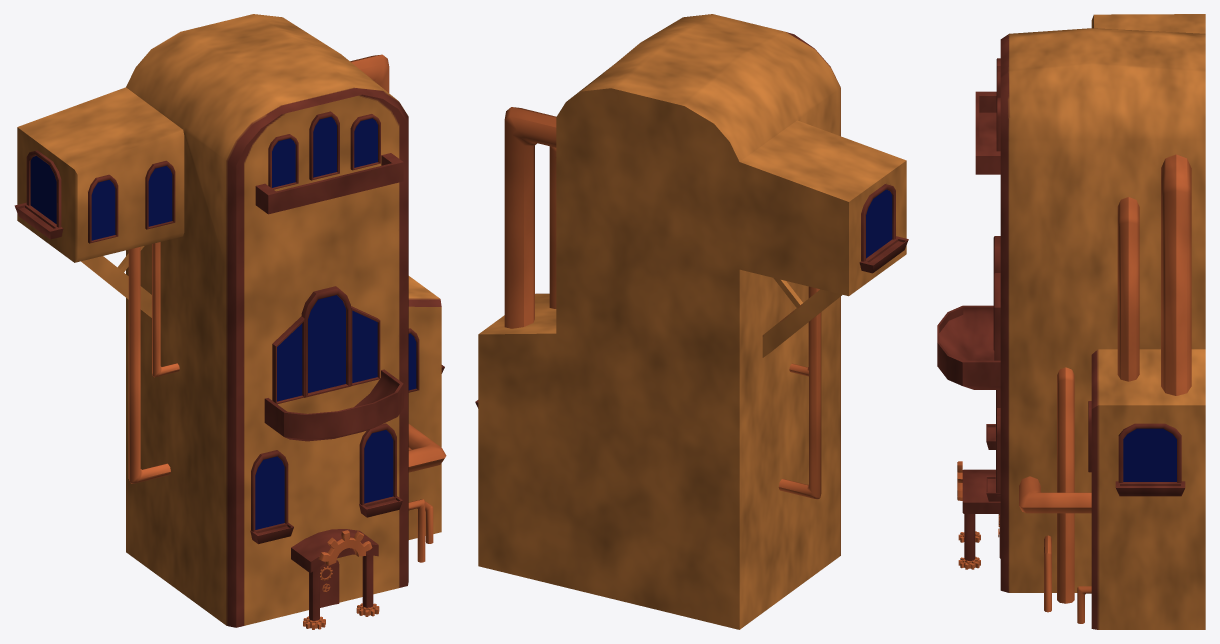
Rendered from PrediosSteampunk1.fbx.
3 renders of one model, left to right at view 1: azimuth 30°, elevation 25°; view 2: azimuth 150°, elevation 25°; view 3: azimuth 270°, elevation 25°, orthographic. The views are drawn at different scales.
Visible parts, largest first — view 1: Predio SteamPunk Um; view 2: Predio SteamPunk Um; view 3: Predio SteamPunk Um.
Part boxes in pixels (x1,y1,x2,y2): Predio SteamPunk Um: (14,14,446,629); Predio SteamPunk Um: (475,14,908,629); Predio SteamPunk Um: (937,14,1205,629).
Size of the model in its own units: 2222 by 2776 by 1338.
Materials: 1 (1 with a texture image).
